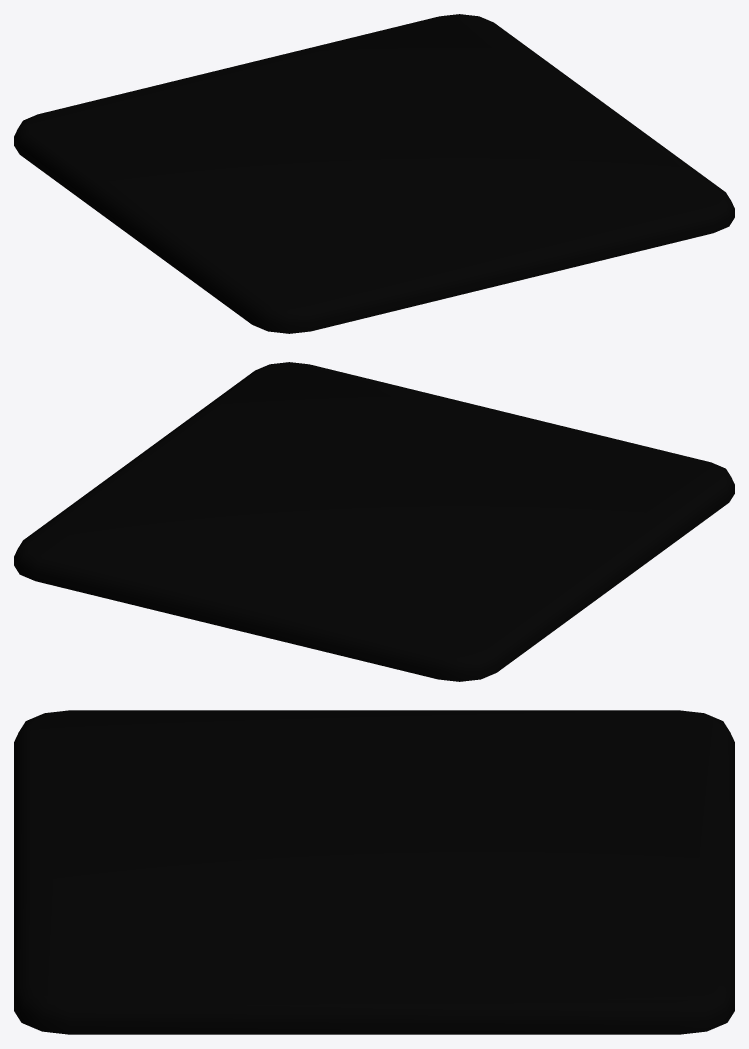
File: cell_marked.glb
3 renders of one model, top to bottom at view 1: azimuth 30°, elevation 25°; view 2: azimuth 150°, elevation 25°; view 3: azimuth 270°, elevation 25°, orthographic. The views are drawn at different scales.
Parts seen in each view (by area): view 1: cell_marked; view 2: cell_marked; view 3: cell_marked.
Boxes of the visible parts, x1,y1,x2,y2 form: cell_marked: [14, 14, 734, 333]; cell_marked: [14, 362, 734, 681]; cell_marked: [14, 710, 734, 1034].
Size of what is drawn, in the model's own units: 1 by 0.04 by 1.
Materials: 1 (1 with a texture image).
